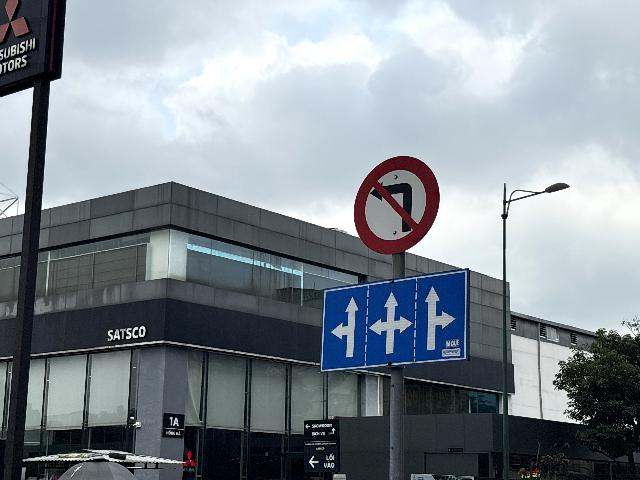cam-re-trai: (353, 154, 441, 255)
